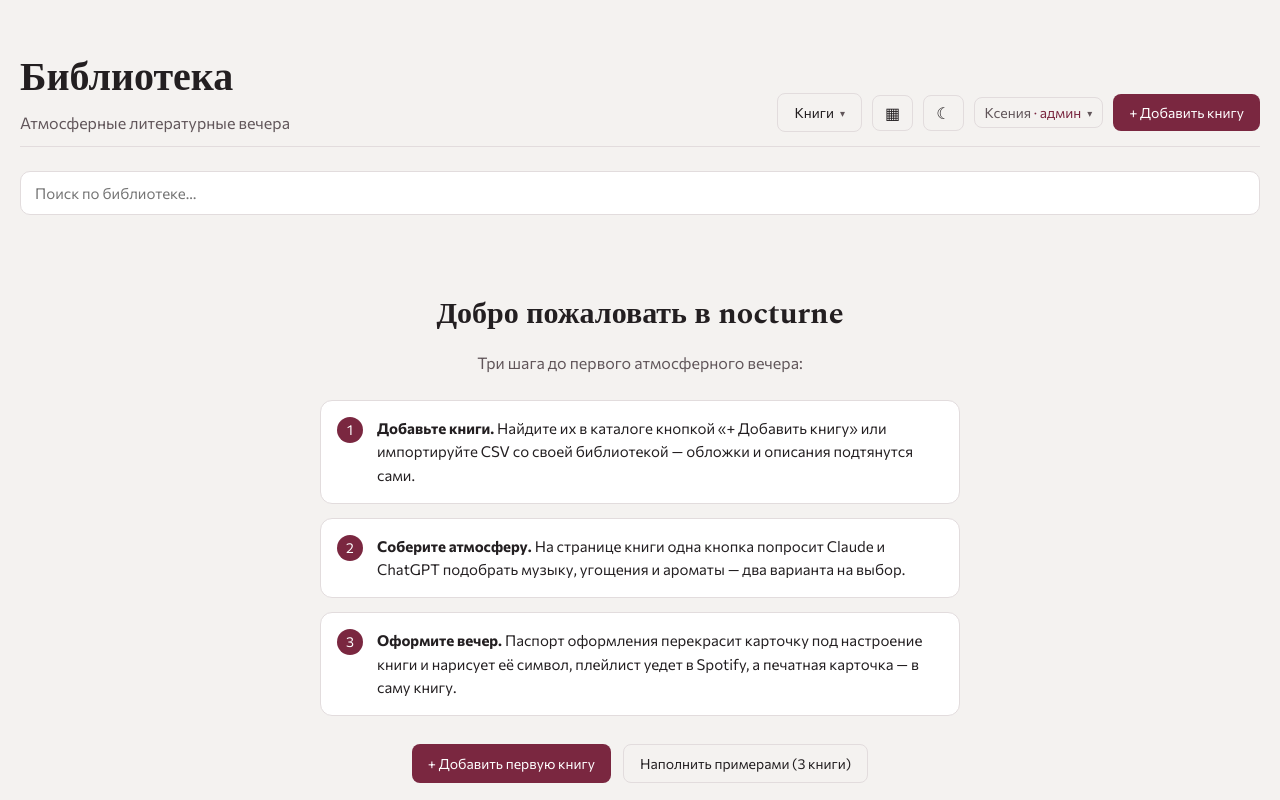
Test case: кнопка онбординга открывает модалку поиска
Expected: the heading "Добро пожаловать в nocturne" is shown, [436,291,844,337]
Click the button "+ Добавить первую книгу": (511, 764) [412,744,611,783]
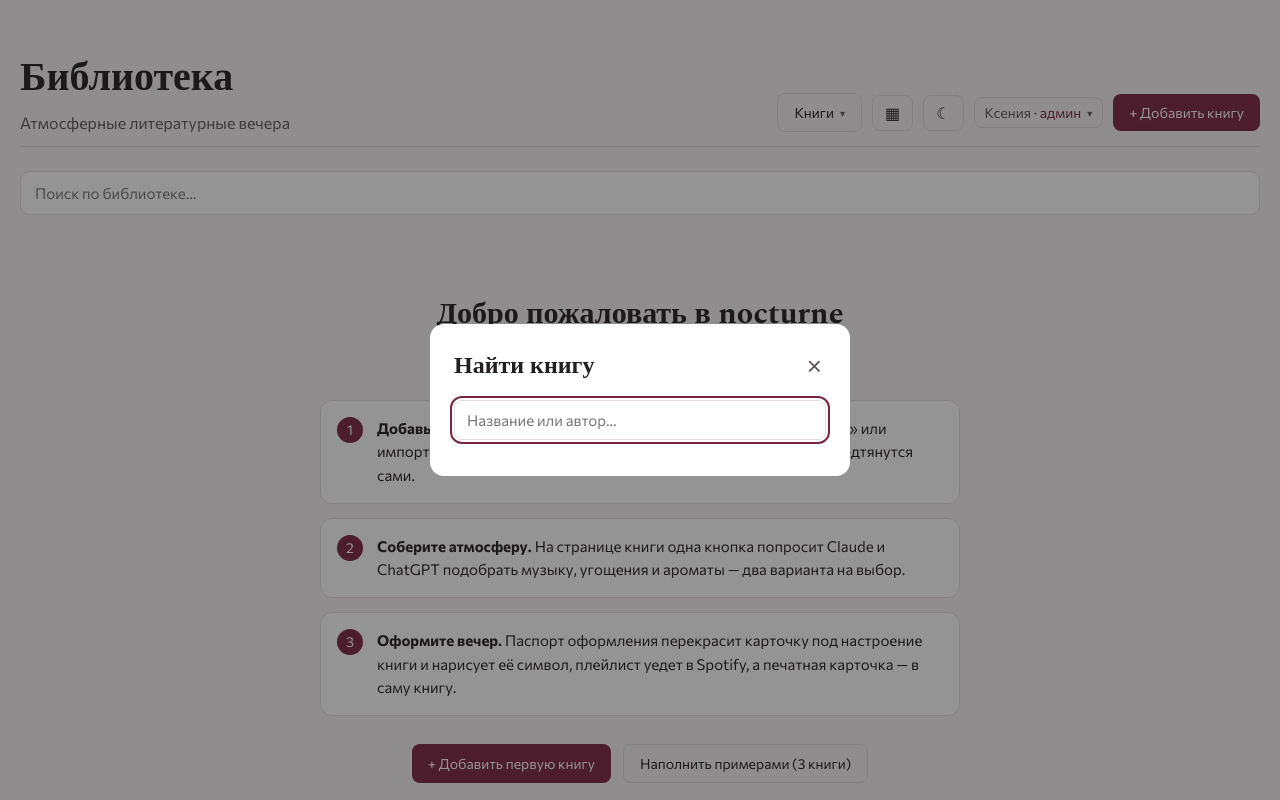
Expected: the dialog is shown, [430,324,850,476]
